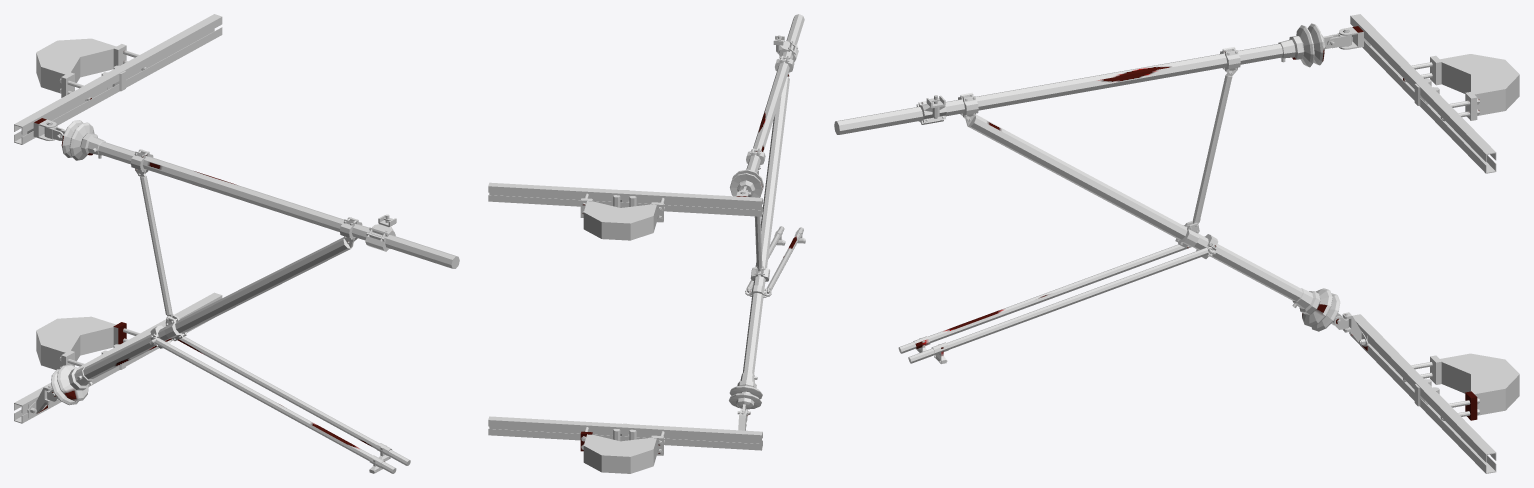
The model's file is Bracket5aL23.obj.
3 views of the same model, side by side, from view 1: azimuth 30°, elevation 25°; view 2: azimuth 150°, elevation 25°; view 3: azimuth 270°, elevation 25° (orthographic). The views are drawn at different scales.
Visible parts, largest first — view 1: obj2, obj1, obj4, obj8, obj7, obj3; view 2: obj2, obj4, obj1, obj7, obj3, obj8; view 3: obj2, obj1, obj4, obj7, obj8, obj3.
Boxes of the visible parts, bbox=[...] form: obj2: bbox=[27, 118, 459, 473]; obj1: bbox=[36, 38, 139, 366]; obj4: bbox=[14, 14, 222, 144]; obj8: bbox=[36, 56, 147, 369]; obj7: bbox=[14, 292, 222, 412]; obj3: bbox=[14, 318, 213, 423]; obj2: bbox=[729, 14, 805, 441]; obj4: bbox=[488, 182, 762, 216]; obj1: bbox=[580, 193, 664, 465]; obj7: bbox=[488, 416, 762, 441]; obj3: bbox=[488, 426, 762, 450]; obj8: bbox=[580, 204, 664, 473]; obj2: bbox=[834, 23, 1371, 363]; obj1: bbox=[1411, 54, 1519, 409]; obj4: bbox=[1350, 14, 1496, 173]; obj7: bbox=[1352, 314, 1496, 462]; obj8: bbox=[1403, 68, 1519, 420]; obj3: bbox=[1350, 335, 1496, 473].
Size of the model in its own units: 1.11 by 1.23 by 2.3.
1 material, 1 textured.
